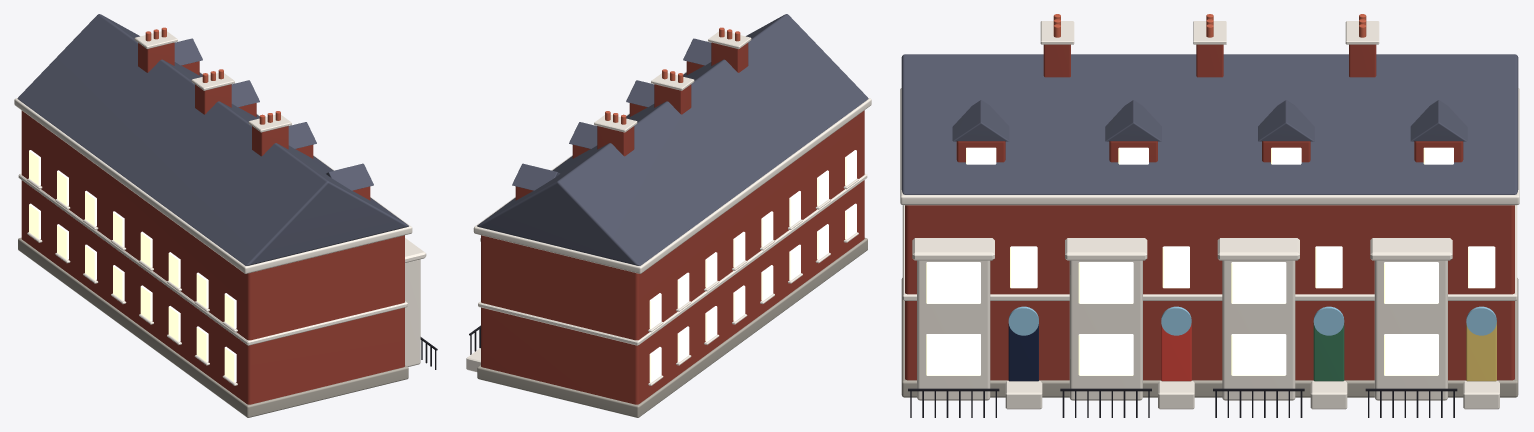
File: townhouse_row.glb
The picture shows the model from 3 angles, left to right: view 1: azimuth 30°, elevation 25°; view 2: azimuth 150°, elevation 25°; view 3: azimuth 270°, elevation 25°; orthographic projection. The views are drawn at different scales.
Visible parts, largest first — view 1: townhouse_row; view 2: townhouse_row; view 3: townhouse_row.
Part boxes in pixels (<box>): townhouse_row: <box>14,14,437,417</box>; townhouse_row: <box>466,14,871,417</box>; townhouse_row: <box>900,14,1519,417</box>.
Size of the model in its own units: 9.89 by 11.75 by 20.3.
Materials: 1 (1 with a texture image).
